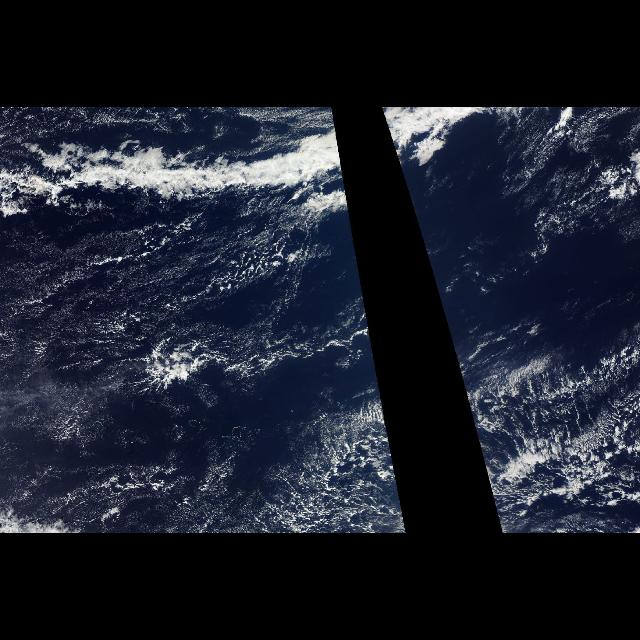Sugar: (12, 226, 140, 452)
